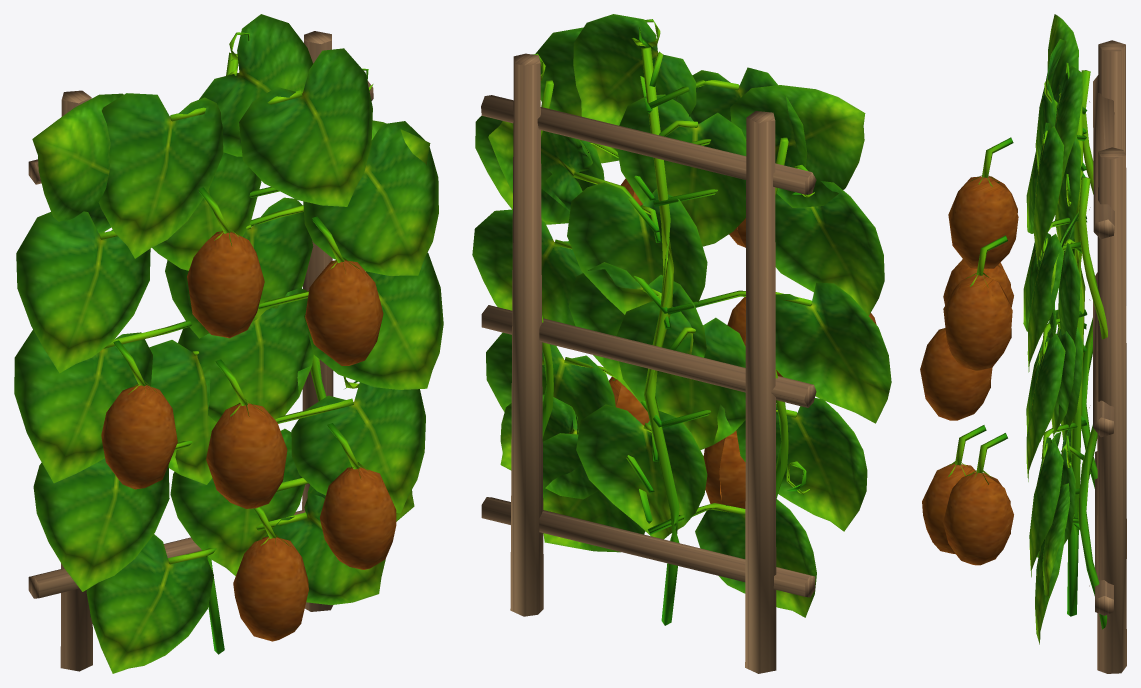
File: NP_Kiwi_Ready_LOD1.fbx
3 views of the same model, side by side, from view 1: azimuth 30°, elevation 25°; view 2: azimuth 150°, elevation 25°; view 3: azimuth 270°, elevation 25° (orthographic). The views are drawn at different scales.
Visible parts, largest first — view 1: NP_Kiwi_Ready; view 2: NP_Kiwi_Ready; view 3: NP_Kiwi_Ready.
Part boxes in pixels (box(x1,y1,x2,y2)): NP_Kiwi_Ready: box(14, 14, 443, 673); NP_Kiwi_Ready: box(472, 14, 891, 673); NP_Kiwi_Ready: box(920, 14, 1126, 673).
Bounding box in the file's own units: 83.08 × 115 × 38.34.
